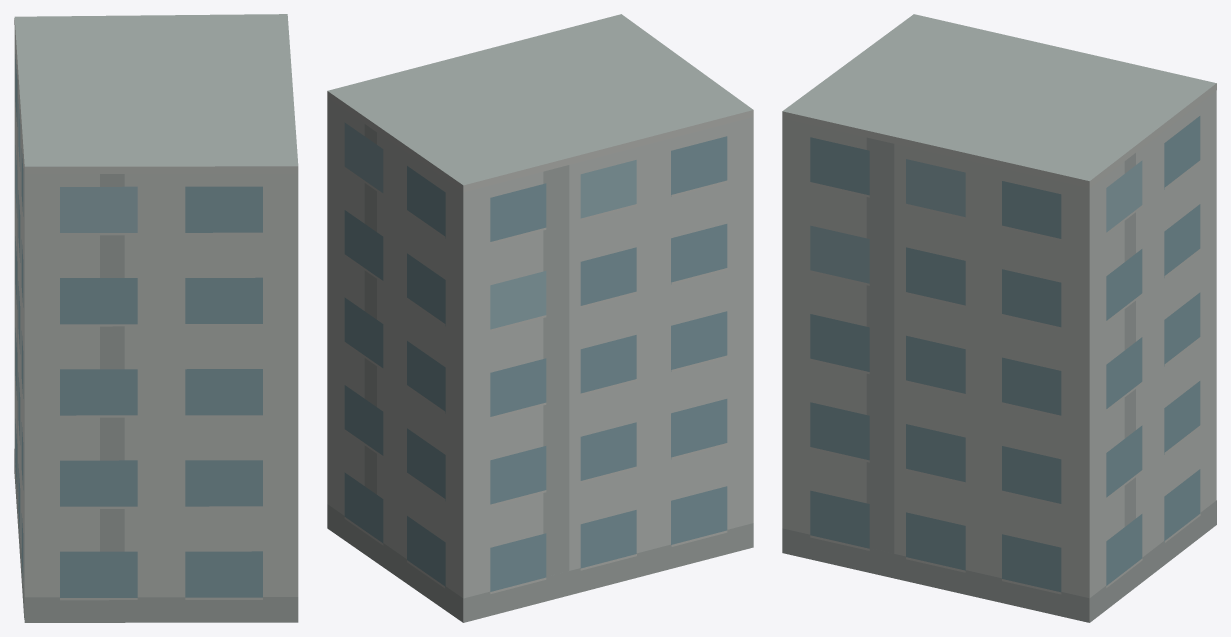
Rendered from residential-259b1e29-635c-42cc-be13-e873789d3479.glb.
3 renders of one model, left to right at view 1: azimuth 30°, elevation 25°; view 2: azimuth 150°, elevation 25°; view 3: azimuth 270°, elevation 25°, orthographic. The views are drawn at different scales.
Visible parts, largest first — view 1: residential-259b1e29-635c-42cc-be13-e873789d3479.tmp; view 2: residential-259b1e29-635c-42cc-be13-e873789d3479.tmp; view 3: residential-259b1e29-635c-42cc-be13-e873789d3479.tmp.
Part boxes in pixels (bbox=[...]): residential-259b1e29-635c-42cc-be13-e873789d3479.tmp: bbox=[14, 14, 298, 622]; residential-259b1e29-635c-42cc-be13-e873789d3479.tmp: bbox=[327, 14, 753, 622]; residential-259b1e29-635c-42cc-be13-e873789d3479.tmp: bbox=[782, 14, 1216, 622].
Size of the model in its own units: 12.39 by 15.25 by 13.6.
